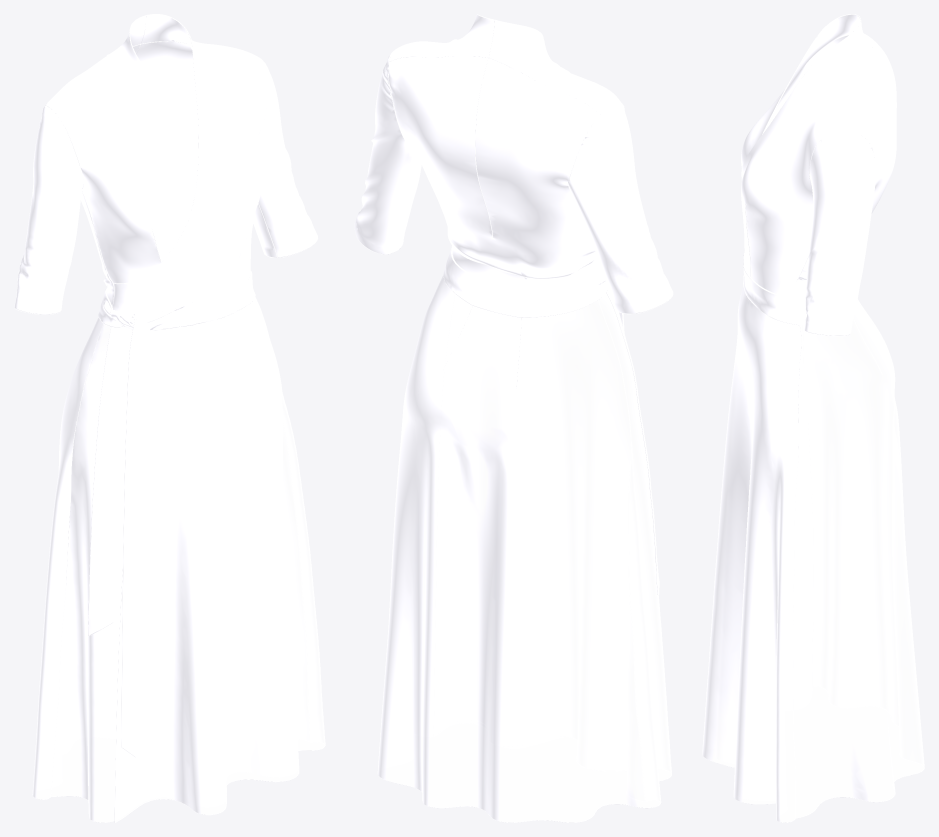
The picture shows the model from 3 angles, left to right: view 1: azimuth 30°, elevation 25°; view 2: azimuth 150°, elevation 25°; view 3: azimuth 270°, elevation 25°; orthographic projection. The views are drawn at different scales.
Parts seen in each view (by area): view 1: F_F_Skrt, R_F_Top, L_F_Top, Belt, F_Skrt, R_Sleeve, B_Skrt, L_Sleeve, B_Top; view 2: B_Skrt, B_Top, R_Sleeve, L_Sleeve, F_Skrt, Belt, R_F_Top, L_F_Top; view 3: B_Skrt, F_F_Skrt, L_F_Top, L_Sleeve, B_Top, R_F_Top, Belt.
Part boxes in pixels (x1,y1,x2,y2): F_F_Skrt: [114, 297, 325, 822]; R_F_Top: [45, 15, 197, 283]; L_F_Top: [112, 14, 268, 316]; Belt: [88, 271, 255, 757]; F_Skrt: [51, 324, 126, 822]; R_Sleeve: [14, 105, 83, 314]; B_Skrt: [32, 317, 103, 799]; L_Sleeve: [253, 59, 318, 257]; B_Top: [46, 41, 198, 306]; B_Skrt: [377, 275, 661, 822]; B_Top: [388, 56, 599, 289]; R_Sleeve: [567, 101, 673, 314]; L_Sleeve: [354, 49, 421, 254]; F_Skrt: [520, 293, 671, 781]; Belt: [443, 246, 659, 594]; R_F_Top: [488, 19, 620, 114]; L_F_Top: [389, 14, 602, 273]; B_Skrt: [793, 299, 924, 818]; F_F_Skrt: [702, 286, 801, 822]; L_F_Top: [741, 20, 873, 297]; L_Sleeve: [804, 131, 876, 336]; B_Top: [794, 36, 896, 298]; R_F_Top: [741, 14, 873, 167]; Belt: [743, 251, 806, 325].
Bounding box in the file's own units: 0.5322 × 1.26 × 0.3431.
Materials: 1 (1 with a texture image).
